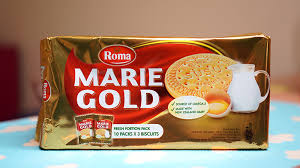Roma Marie Gold (240g): (30, 28, 272, 158)
